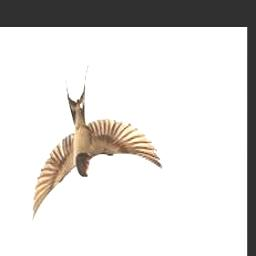Swallow: (31, 60, 162, 223)
